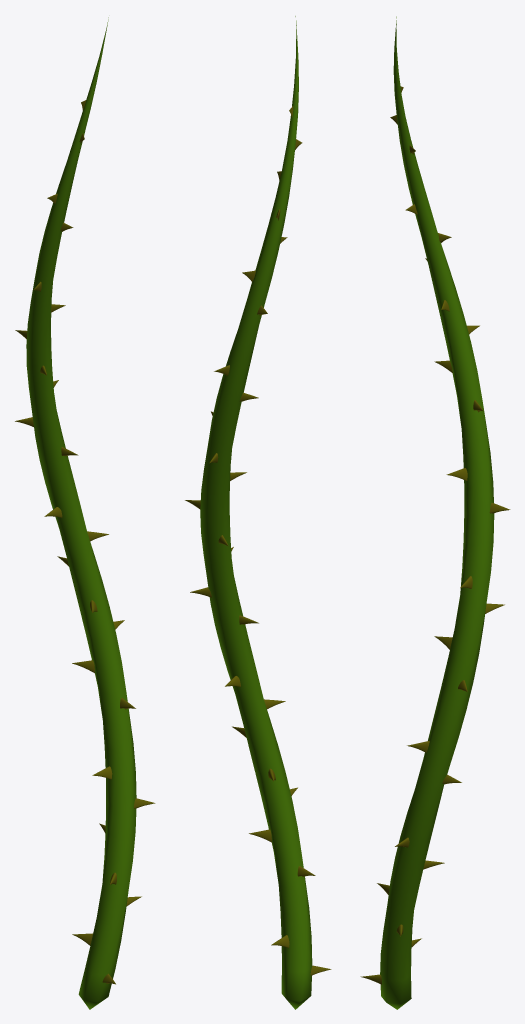
File: thorn.dae
The picture shows the model from 3 angles, left to right: view 1: azimuth 90°, elevation 25°; view 2: azimuth 150°, elevation 25°; view 3: azimuth 330°, elevation 25°; orthographic projection.
Parts seen in each view (by area): view 1: Oil_Tank; view 2: Oil_Tank; view 3: Oil_Tank.
Part boxes in pixels (x1,y1,x2,y2): Oil_Tank: (26, 17, 136, 1009); Oil_Tank: (200, 16, 312, 1009); Oil_Tank: (380, 16, 494, 1009).
Bounding box in the file's own units: 53.25 × 430 × 55.8.
